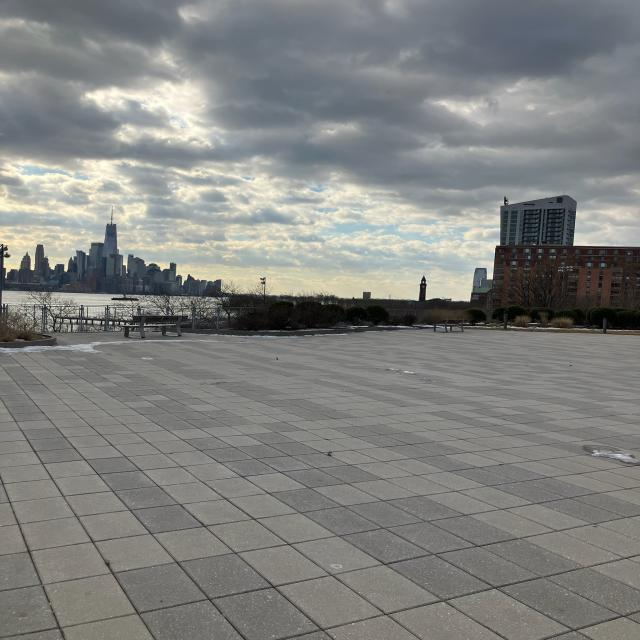WTC: (102, 206, 118, 256)
